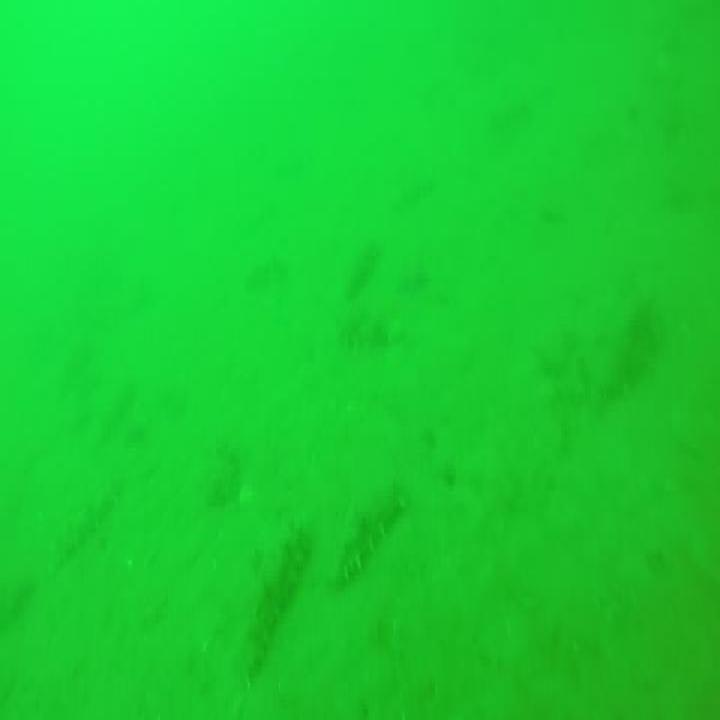holothurian: (240, 528, 316, 677), (329, 475, 404, 581), (49, 471, 122, 558), (331, 311, 389, 343)
